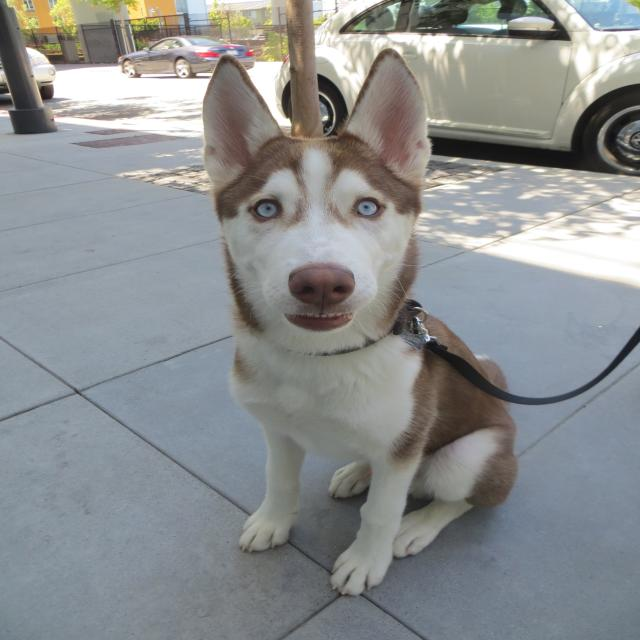dog: (133, 43, 480, 378)
